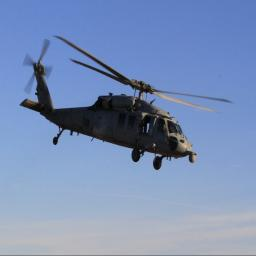helicopter: (22, 36, 237, 170)
